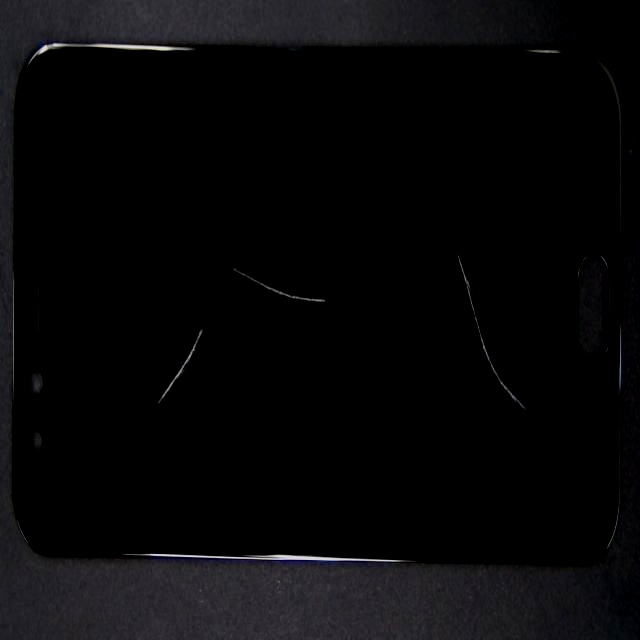scratch: (291, 251, 640, 551), (125, 98, 271, 499), (224, 159, 452, 410)
